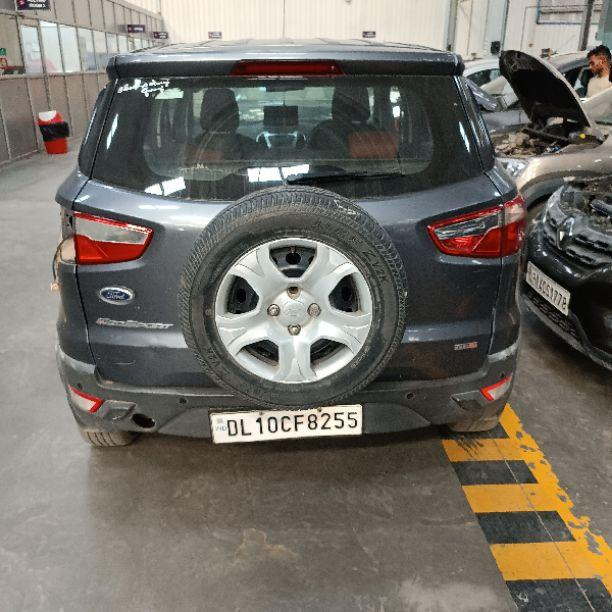license_plate: (207, 403, 363, 444), (523, 260, 571, 317)
